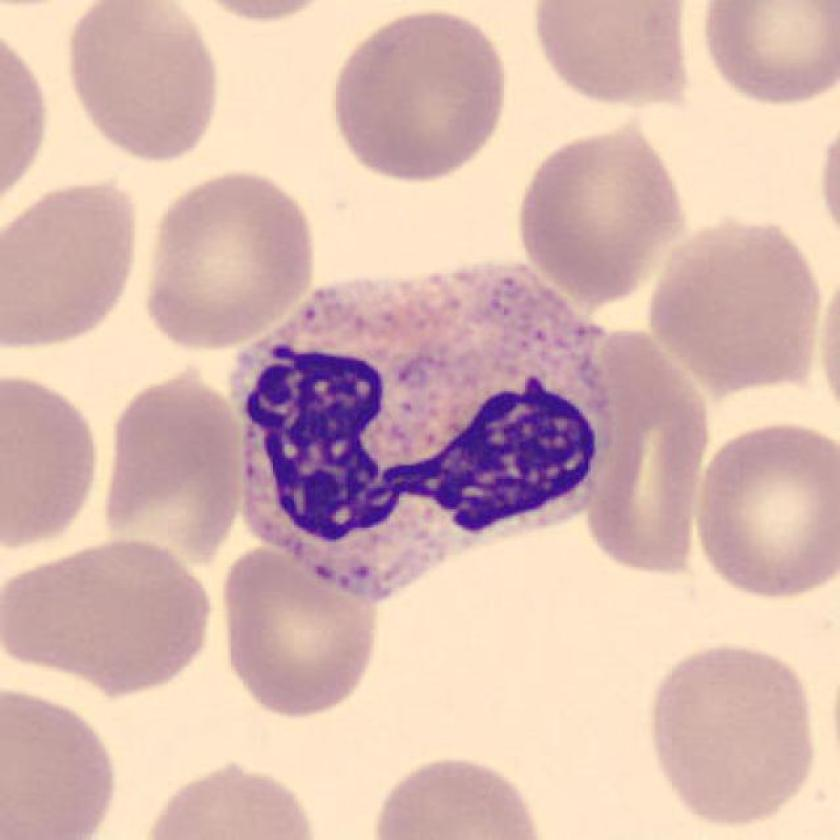neutrophil: (239, 263, 609, 601)
